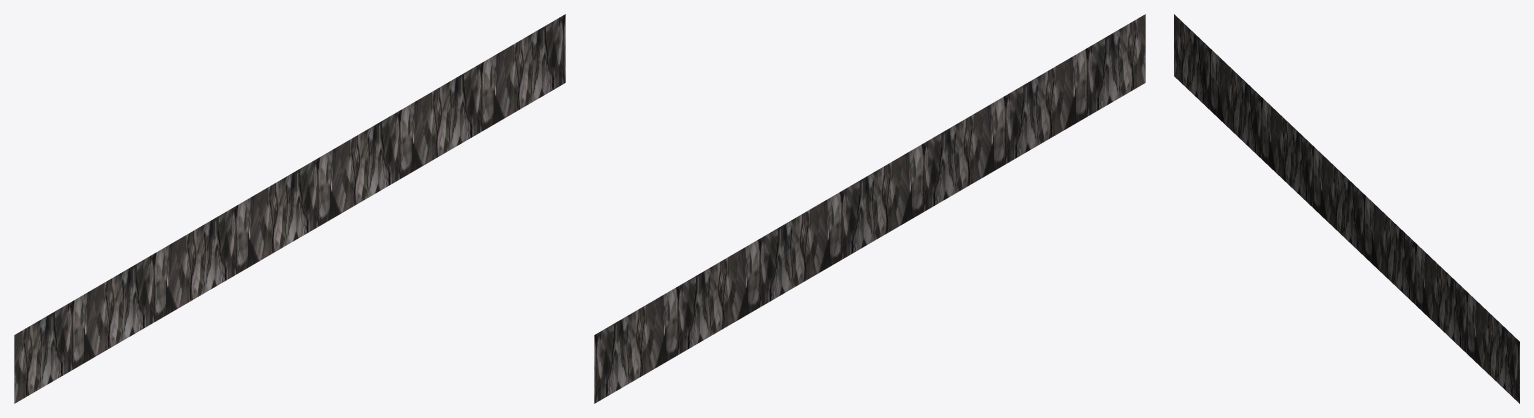
Rendered from CH09_SMAUG_PLAYSURFACE_LAIR58.fbx.
The picture shows the model from 3 angles, left to right: view 1: azimuth 30°, elevation 25°; view 2: azimuth 210°, elevation 25°; view 3: azimuth 270°, elevation 25°; orthographic projection. The views are drawn at different scales.
Visible parts, largest first — view 1: CH09_SMAUG_PLAYSURFACE_LAIR58; view 2: CH09_SMAUG_PLAYSURFACE_LAIR58; view 3: CH09_SMAUG_PLAYSURFACE_LAIR58.
Boxes of the visible parts, x1=… form: CH09_SMAUG_PLAYSURFACE_LAIR58: x1=14, y1=14, x2=565, y2=403; CH09_SMAUG_PLAYSURFACE_LAIR58: x1=594, y1=14, x2=1145, y2=403; CH09_SMAUG_PLAYSURFACE_LAIR58: x1=1174, y1=14, x2=1519, y2=403.
Bounding box in the file's own units: 68939 × 6106 × 30742.
Materials: 1 (1 with a texture image).
